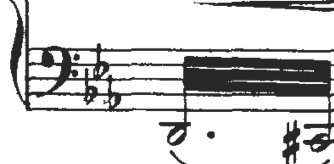bass_clef: (36, 39, 83, 107)
flat: (92, 40, 111, 84), (80, 65, 98, 109), (107, 75, 124, 114)
